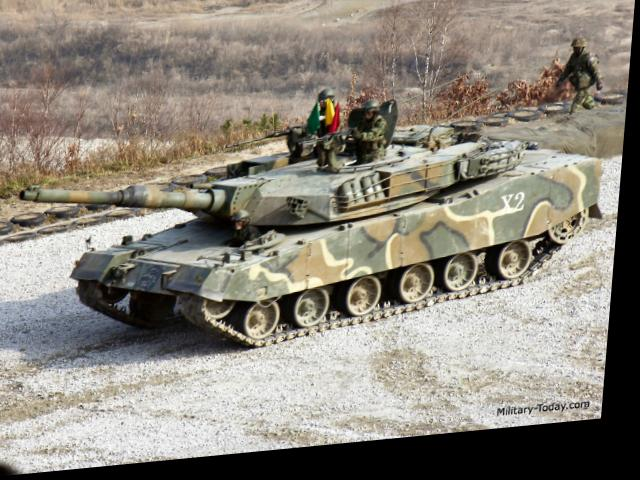tank: (74, 125, 606, 355)
